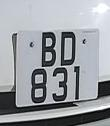1: (68, 66, 82, 102)
3: (48, 65, 69, 102)
8: (28, 66, 50, 106)
B: (38, 29, 59, 69)
D: (56, 29, 80, 67)
